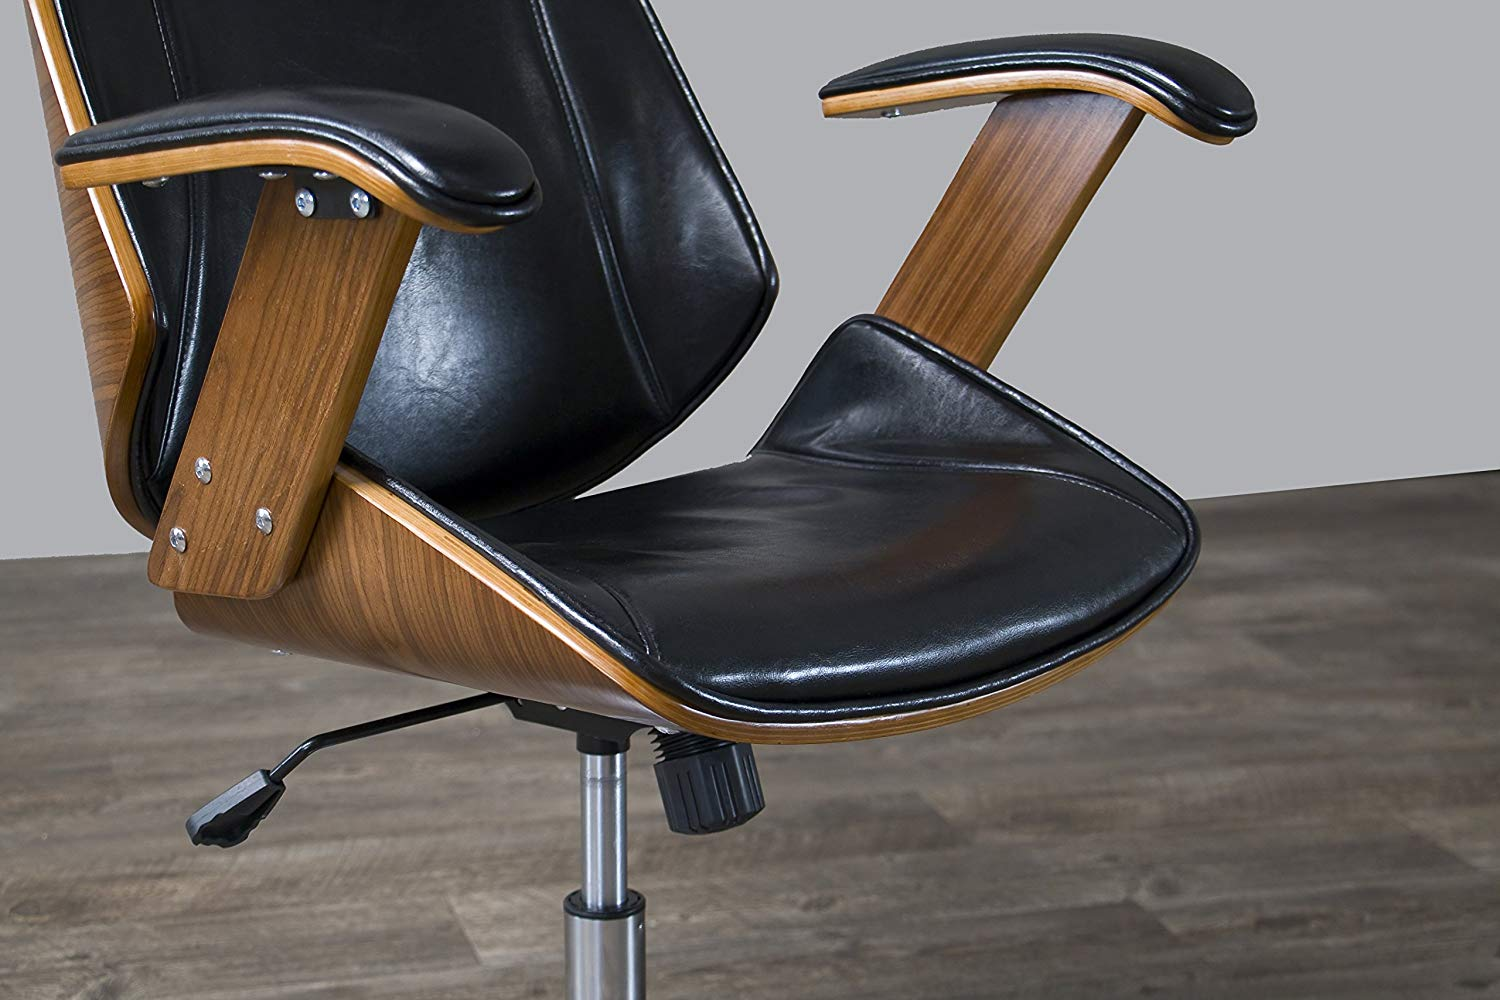chairs: (1, 1, 1275, 985)
